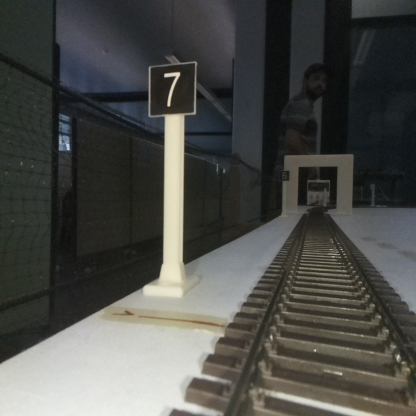black-info-6: (280, 169, 289, 219)
black-info-7: (150, 61, 195, 294)
